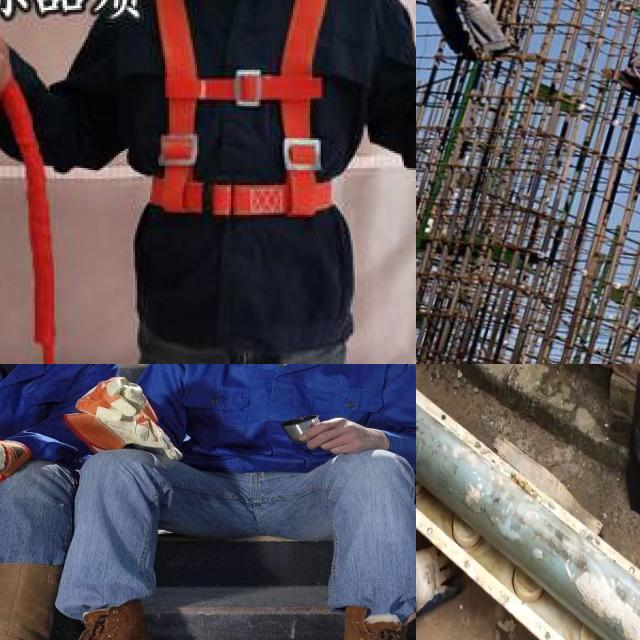Harness: (124, 0, 365, 364)
boots: (0, 575, 59, 640)
hand_glove: (88, 379, 166, 450), (416, 542, 462, 624), (0, 424, 29, 483)
hand_noglove: (294, 414, 394, 463)
person: (106, 364, 416, 640), (0, 364, 112, 640)
shoes: (41, 603, 161, 640), (325, 603, 416, 640)
